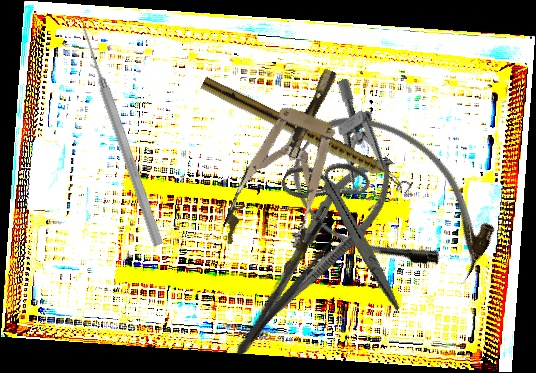Cannula: (271, 89, 516, 311)
Dressing Forceps: (227, 211, 346, 364)
Handpiece: (198, 75, 408, 192)
Iris Scissors: (252, 139, 447, 313)
Needle Holder: (227, 141, 412, 354)
Pusher: (77, 25, 166, 248)
Speculum: (216, 55, 373, 274), (297, 76, 425, 223)
